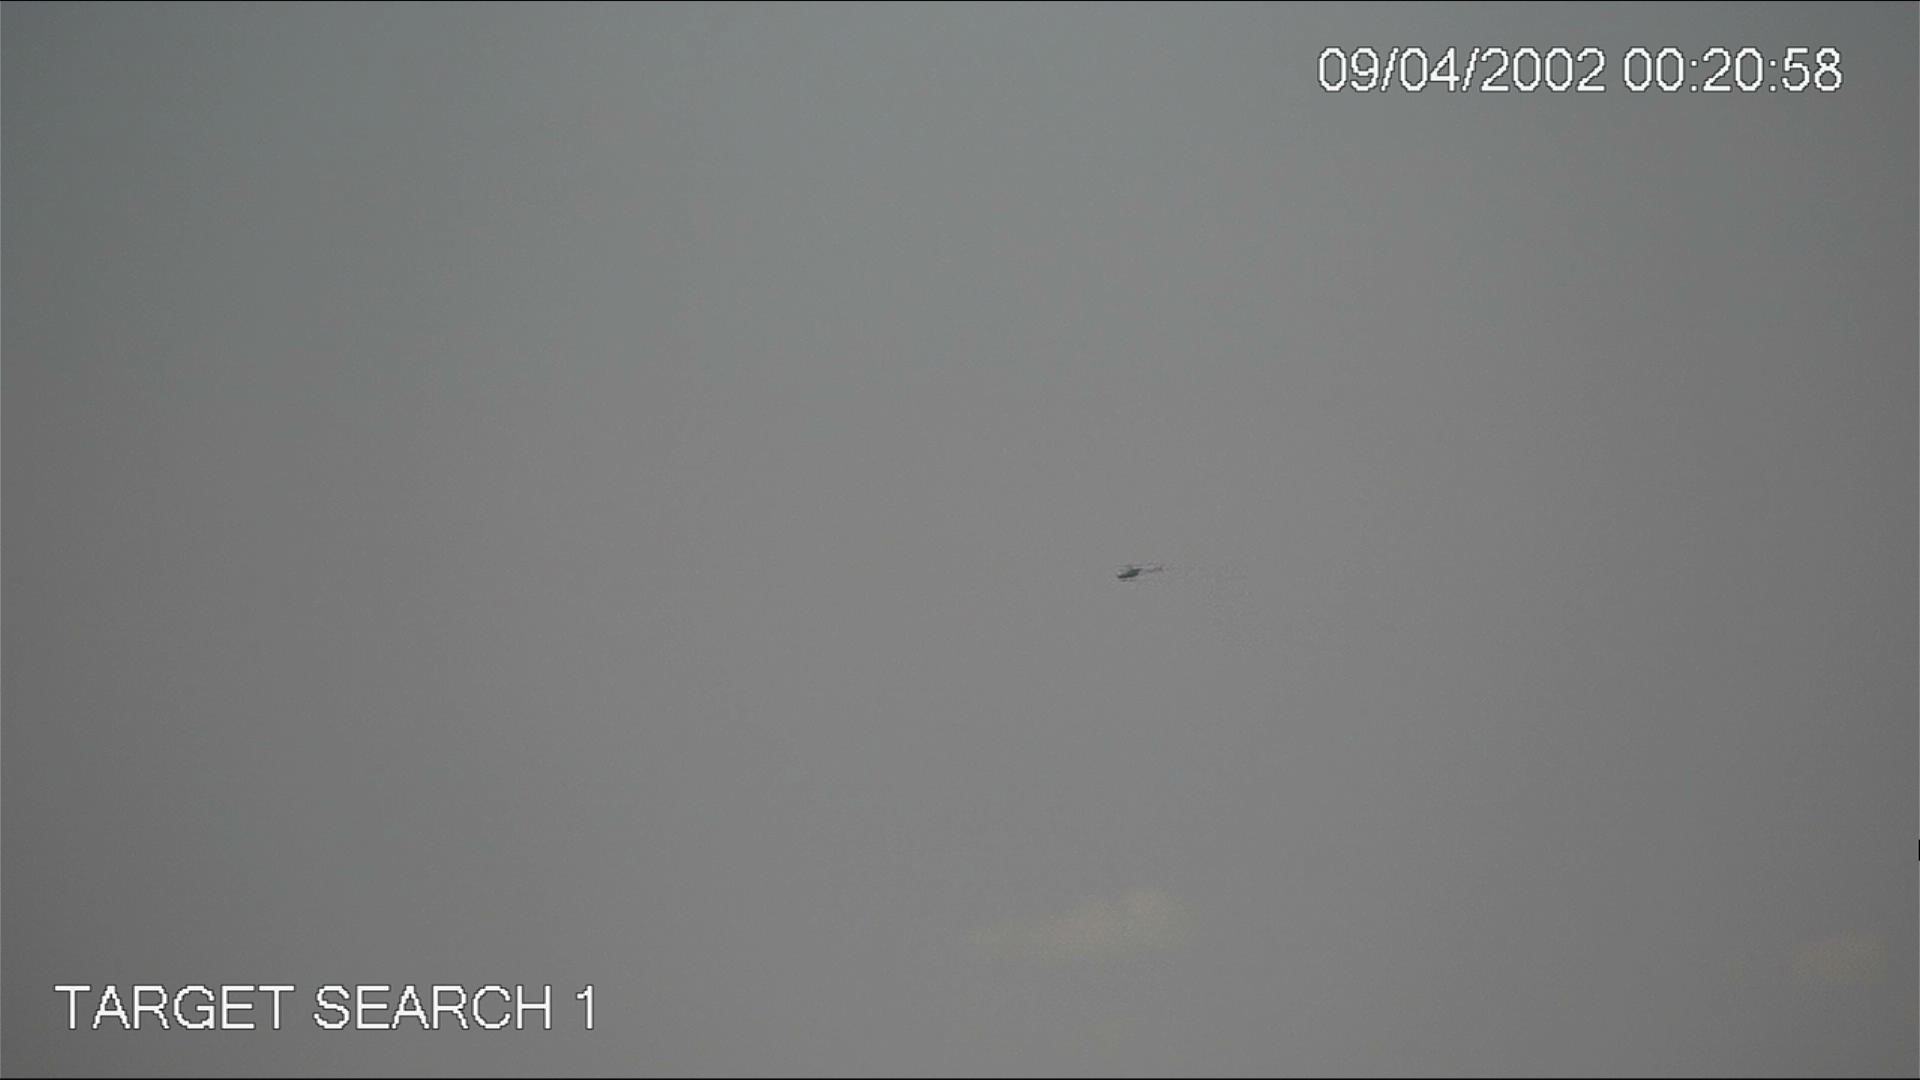SU_30: (1116, 559, 1143, 585)
